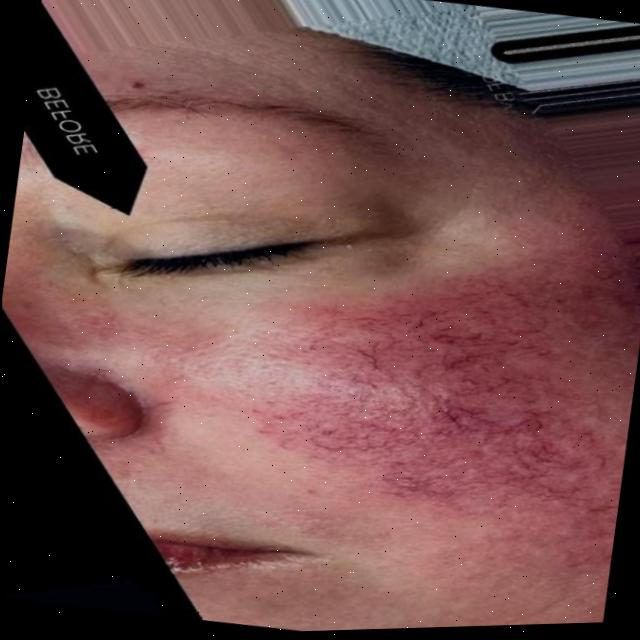Rosacea: (277, 275, 640, 547)
